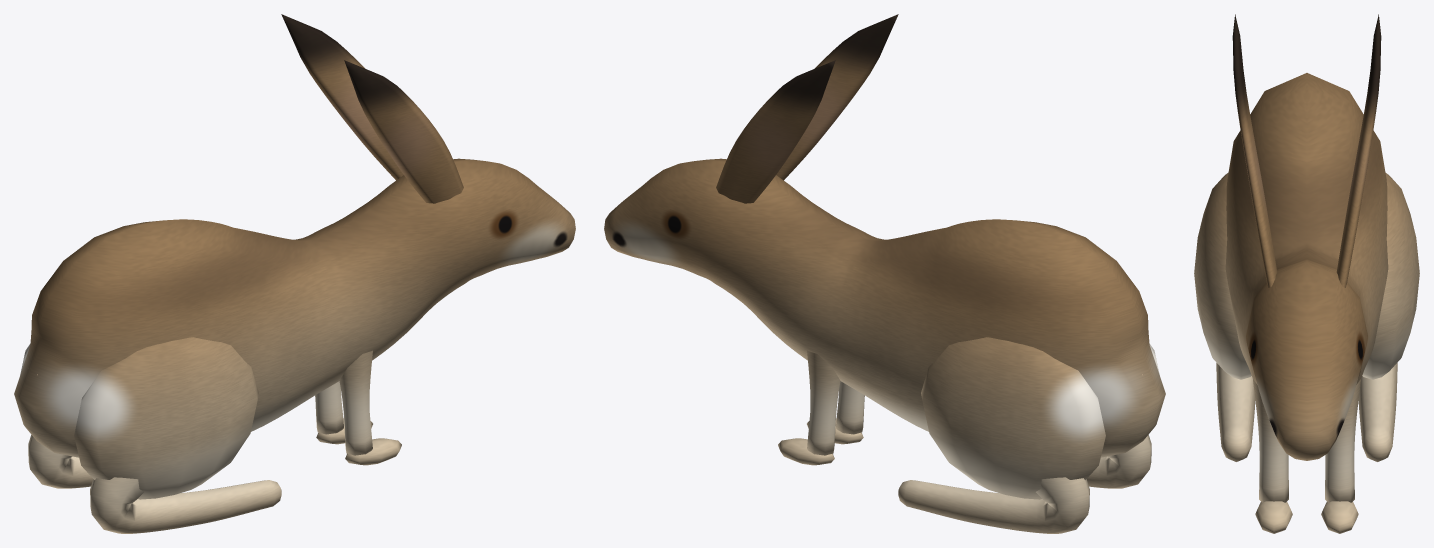
File: hare.glb
3 views of the same model, side by side, from view 1: azimuth 30°, elevation 25°; view 2: azimuth 150°, elevation 25°; view 3: azimuth 270°, elevation 25° (orthographic). The views are drawn at different scales.
Parts seen in each view (by area): view 1: hare; view 2: hare; view 3: hare.
Boxes of the visible parts, x1=… form: hare: x1=14, y1=14, x2=575, y2=533; hare: x1=604, y1=14, x2=1165, y2=533; hare: x1=1194, y1=14, x2=1419, y2=533.
Size of the model in its own units: 0.722 by 0.5377 by 0.2243.
1 material, 1 textured.
